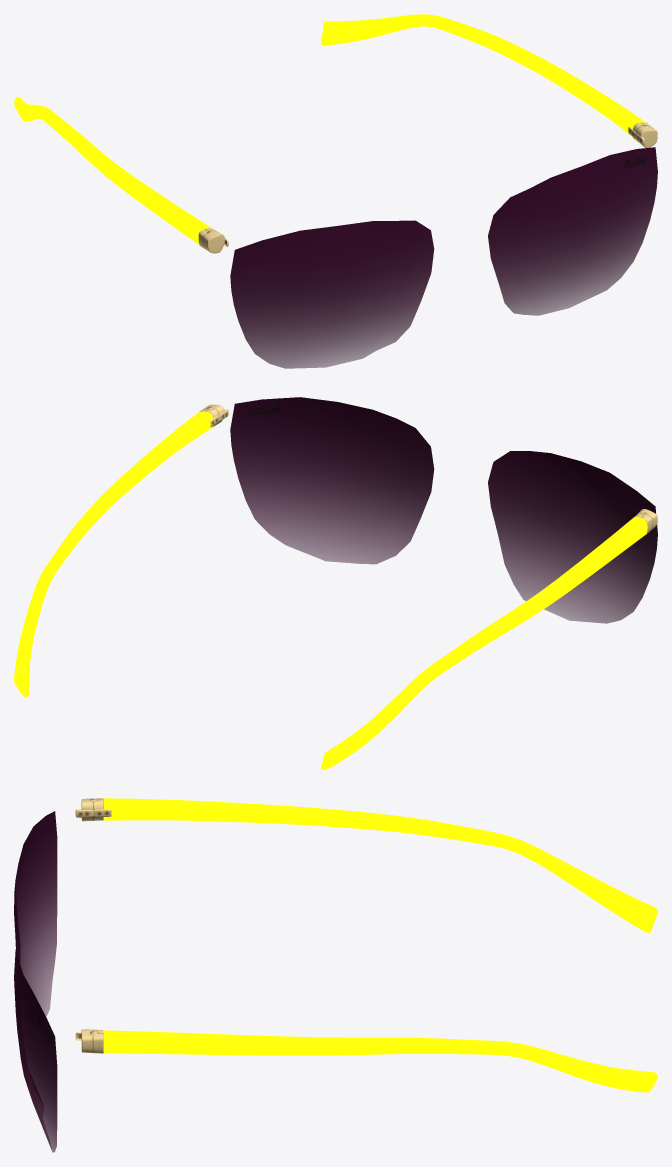
Rendered from gafas.gltf.
The picture shows the model from 3 angles, top to bottom: view 1: azimuth 30°, elevation 25°; view 2: azimuth 150°, elevation 25°; view 3: azimuth 270°, elevation 25°; orthographic projection. The views are drawn at different scales.
Visible parts, largest first — view 1: Plane, Cube.004, Cube.003; view 2: Plane, Cube.004, Cube.003; view 3: Cube.004, Plane, Cube.003.
Boxes of the visible parts, x1,y1,x2,y2 form: Plane: [230, 147, 657, 368]; Cube.004: [14, 14, 645, 244]; Cube.003: [198, 122, 657, 253]; Plane: [230, 397, 657, 623]; Cube.004: [14, 411, 647, 769]; Cube.003: [199, 404, 657, 534]; Cube.004: [103, 798, 657, 1092]; Plane: [14, 811, 57, 1152]; Cube.003: [75, 798, 111, 1053].
Bounding box in the file's own units: 45.99 × 14.71 × 51.94.
2 materials, 1 textured.
